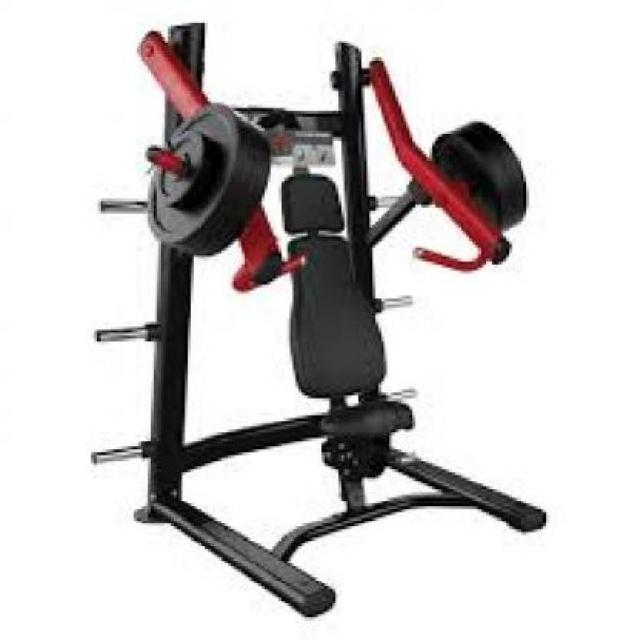Chest Press machine: (86, 11, 568, 623)
